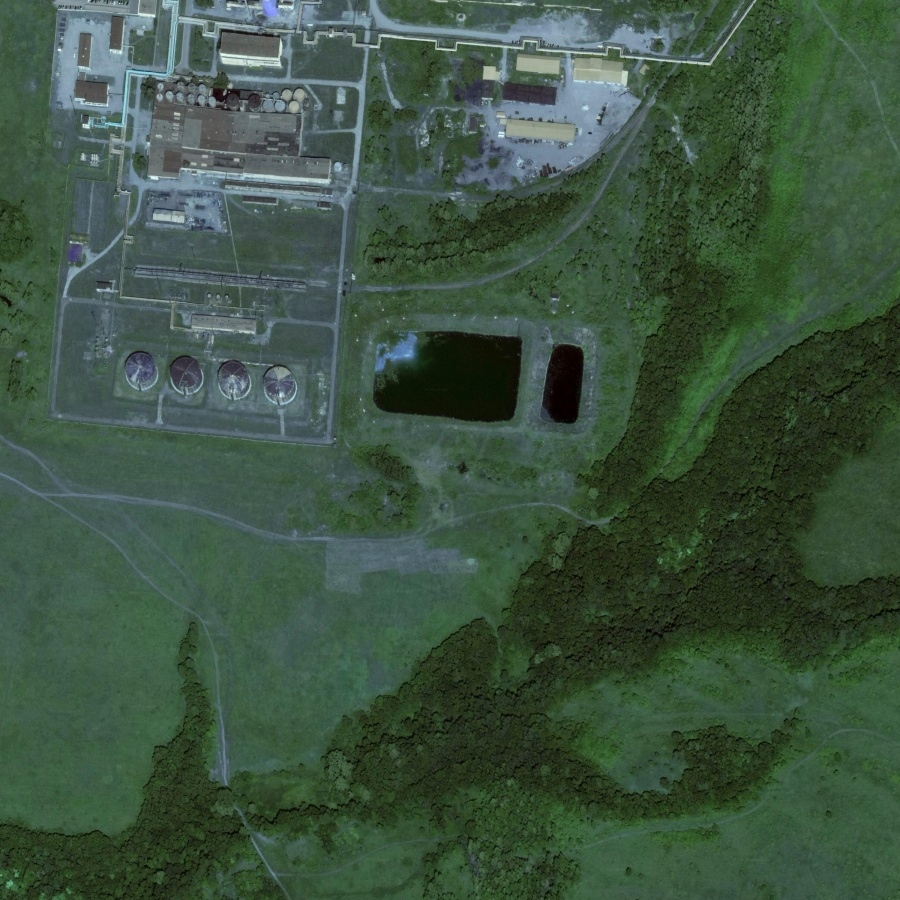PowerPlant: (118, 300, 328, 466), (363, 317, 597, 444)
